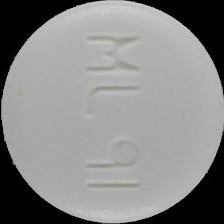33342-056: (0, 0, 224, 224)
